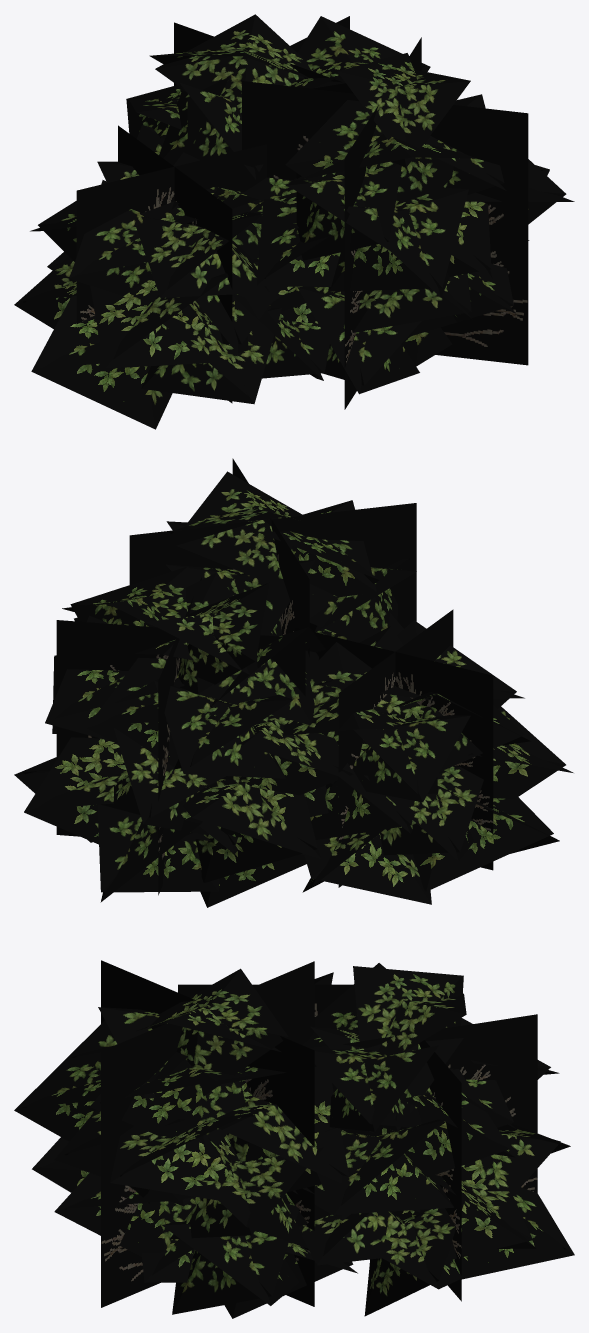
Rendered from bg_anh_foliage_te_b49_sm_old.FBX.
The picture shows the model from 3 angles, top to bottom: view 1: azimuth 30°, elevation 25°; view 2: azimuth 150°, elevation 25°; view 3: azimuth 270°, elevation 25°; orthographic projection.
Parts seen in each view (by area): view 1: bg_anh_foliage_te_b49_sm_old; view 2: bg_anh_foliage_te_b49_sm_old; view 3: bg_anh_foliage_te_b49_sm_old.
Part boxes in pixels (bbox=[...]): bg_anh_foliage_te_b49_sm_old: bbox=[14, 14, 574, 429]; bg_anh_foliage_te_b49_sm_old: bbox=[14, 458, 573, 907]; bg_anh_foliage_te_b49_sm_old: bbox=[14, 960, 574, 1318].
Bounding box in the file's own units: 303 × 175 × 284.
